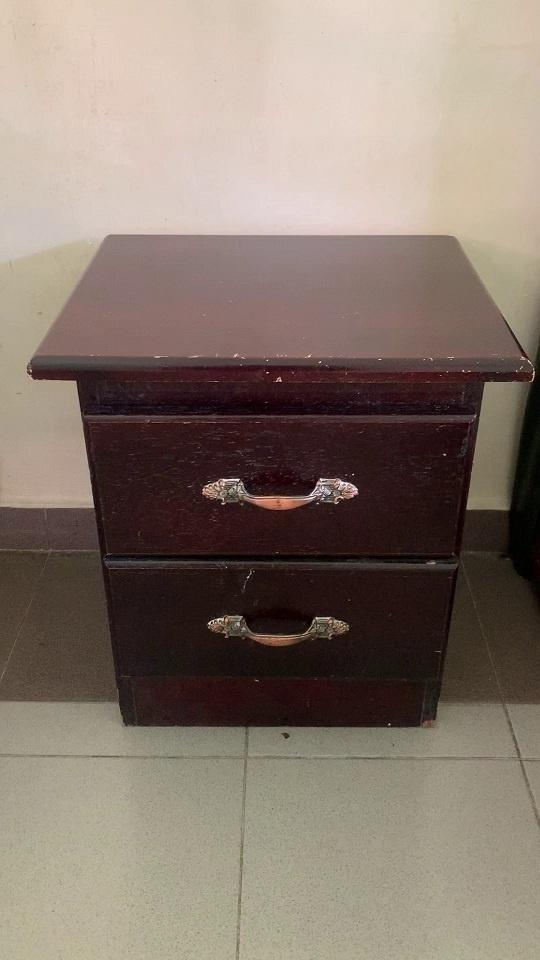cabinet_door: (98, 411, 462, 557), (117, 563, 447, 684)
handle: (204, 604, 356, 665), (199, 467, 363, 522)
